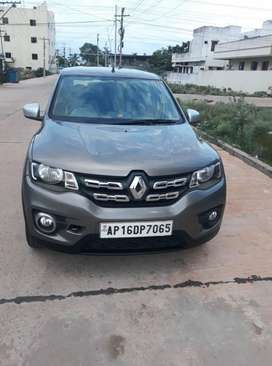AP16DP7065: (100, 220, 172, 237)
